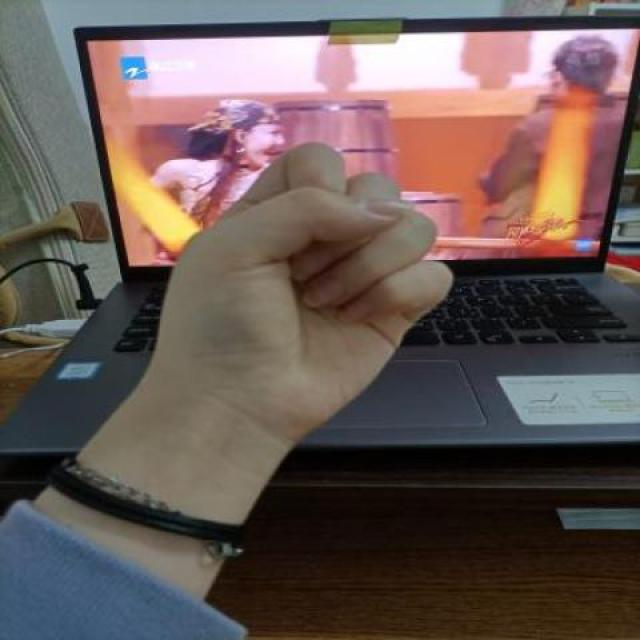Closed Hand: (153, 137, 463, 427)
